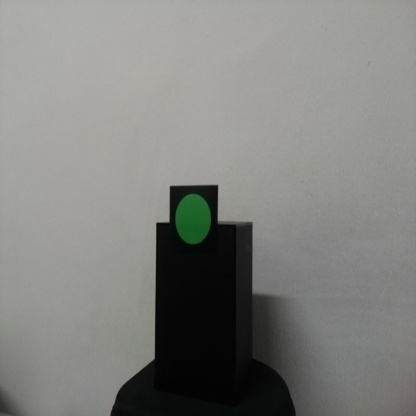id_5: (169, 185, 218, 253)
